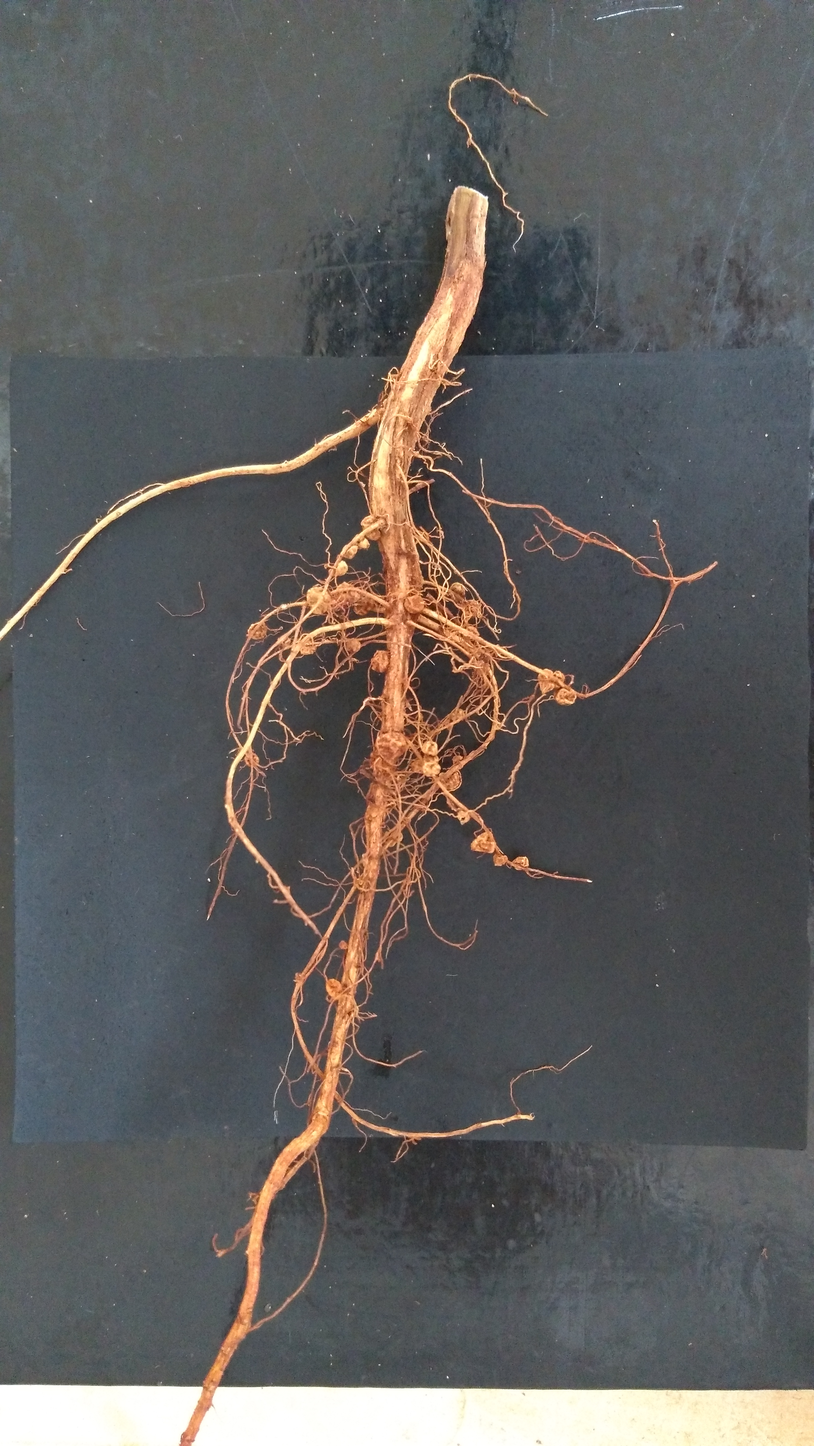nodule: (374, 731, 408, 761), (538, 668, 565, 694), (306, 587, 331, 615), (411, 754, 441, 776), (334, 582, 360, 605), (470, 831, 495, 854), (360, 515, 381, 541), (473, 649, 492, 677), (438, 770, 461, 791), (553, 687, 577, 706), (353, 595, 375, 615), (359, 757, 377, 780), (404, 594, 424, 614), (372, 650, 390, 672), (462, 599, 481, 618), (448, 582, 465, 602), (247, 622, 267, 639), (328, 560, 348, 576), (370, 750, 382, 776), (326, 979, 341, 999), (462, 626, 479, 642), (354, 534, 370, 550), (422, 740, 438, 756), (387, 831, 403, 847), (512, 856, 529, 871), (365, 805, 379, 822), (342, 544, 357, 559), (345, 638, 360, 652), (245, 752, 259, 767), (449, 709, 465, 722), (493, 854, 508, 867), (300, 644, 317, 655), (277, 636, 290, 648), (452, 755, 463, 764), (381, 397, 389, 409), (339, 941, 348, 950)
